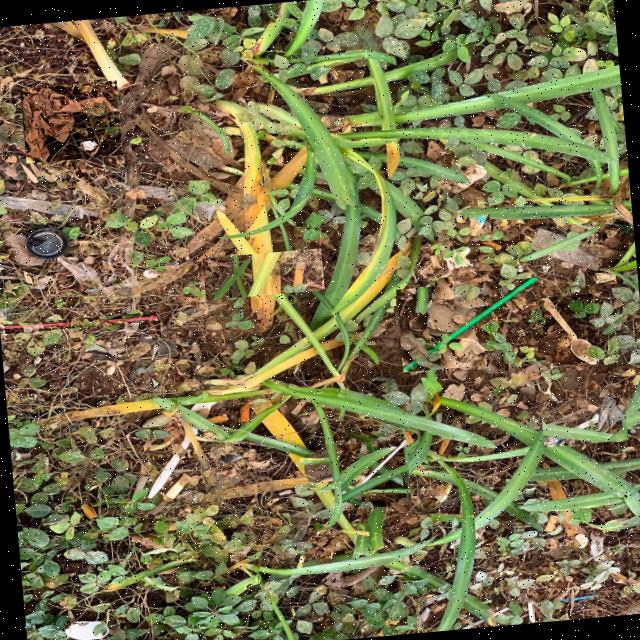Cigarette: (224, 270, 237, 293), (81, 503, 99, 519), (290, 398, 306, 415), (480, 241, 502, 251), (545, 515, 558, 531), (239, 402, 249, 421), (207, 413, 226, 422), (431, 255, 441, 266)
Disposable food container: (395, 296, 423, 326)
Other plastic: (543, 396, 625, 446), (432, 277, 453, 304), (469, 214, 489, 234)
Plastic bottle cap: (27, 226, 69, 259)
Plastic film: (531, 228, 601, 271), (0, 196, 83, 217), (57, 257, 103, 288), (195, 202, 225, 218), (488, 350, 502, 373)
Plastic straw: (404, 278, 538, 371), (204, 259, 324, 290), (4, 315, 157, 330), (462, 607, 508, 628), (528, 603, 534, 621)
Plastic utensils: (342, 439, 406, 510), (541, 297, 597, 363)
Tissues: (22, 87, 118, 161)
Unlabeled litter: (66, 621, 108, 639), (136, 186, 187, 199)
